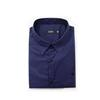abbigliamento_uomo: (28, 19, 75, 87)
